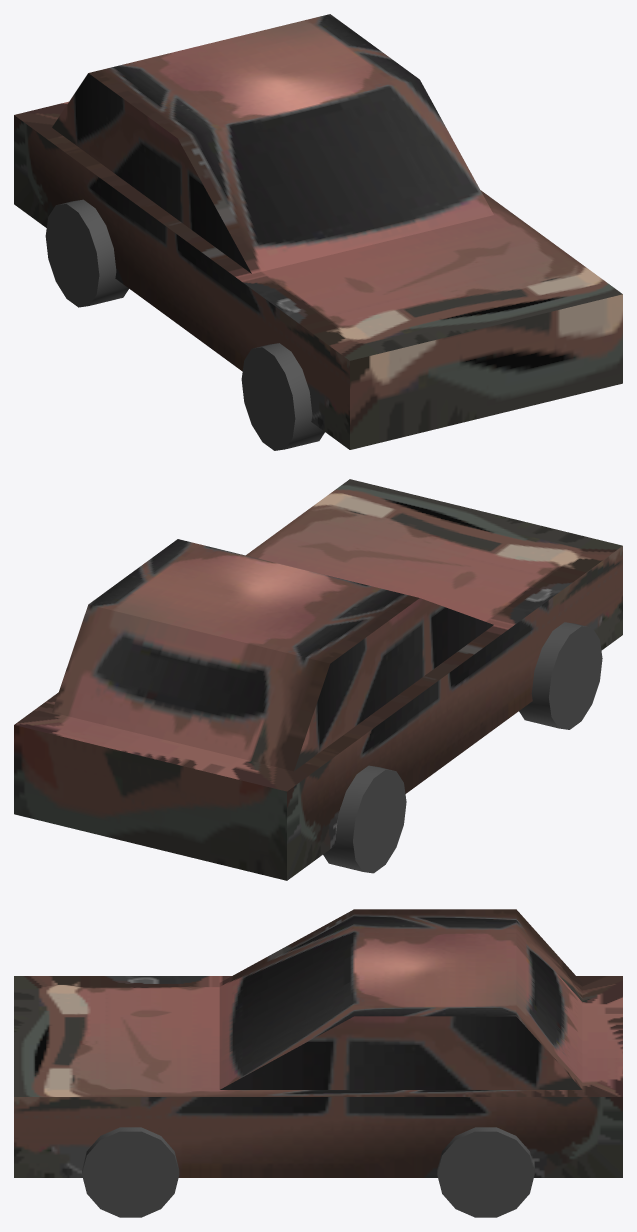
File: Building_AncientRustedCar.obj
3 renders of one model, top to bottom at view 1: azimuth 30°, elevation 25°; view 2: azimuth 150°, elevation 25°; view 3: azimuth 270°, elevation 25°, orthographic. The views are drawn at different scales.
Parts seen in each view (by area): view 1: Body; view 2: Body; view 3: Body.
Boxes of the visible parts, x1,y1,x2,y2 form: Body: (14, 14, 622, 450); Body: (14, 479, 622, 880); Body: (14, 909, 622, 1217).
Bounding box in the file's own units: 1.93 × 1.29 × 3.75.
1 material, 1 textured.
